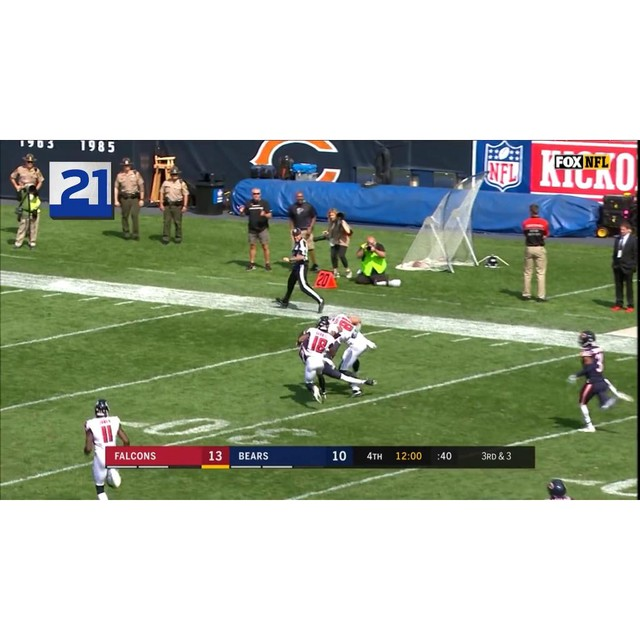american-football-player: (566, 331, 631, 430), (81, 399, 130, 500), (329, 313, 378, 391), (297, 318, 335, 404), (541, 478, 577, 499)
referee: (275, 228, 324, 313)
